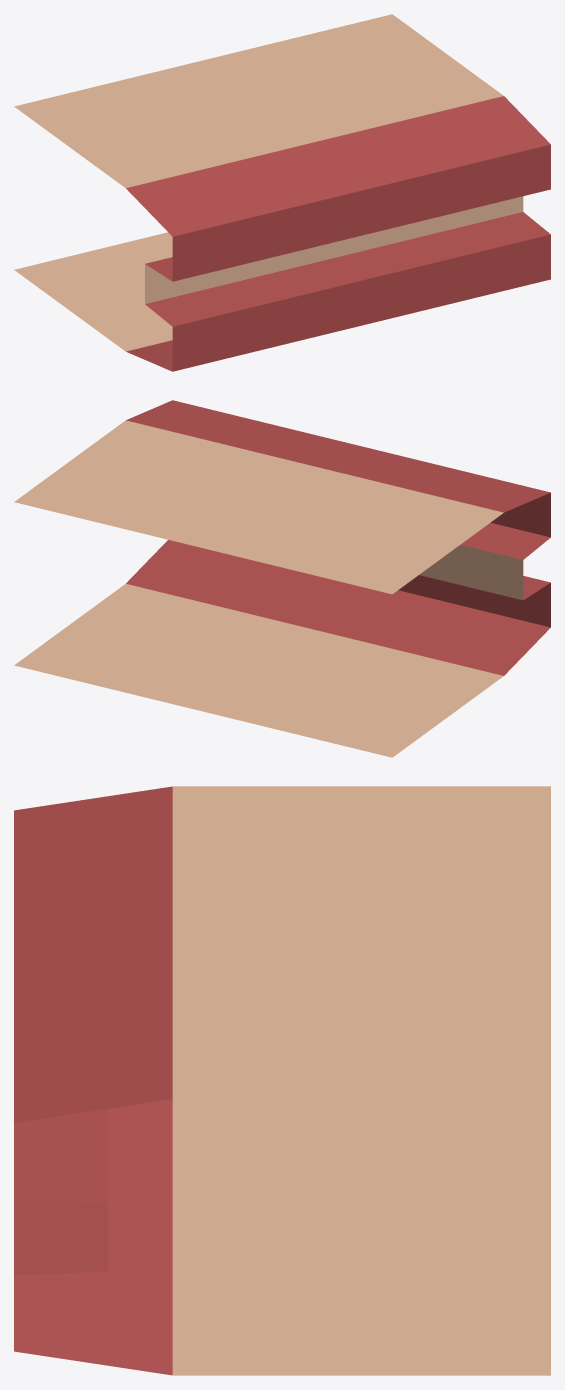
The model's file is SquarePlatformMiddleEnd.fbx.
3 views of the same model, one above another, from view 1: azimuth 30°, elevation 25°; view 2: azimuth 150°, elevation 25°; view 3: azimuth 270°, elevation 25° (orthographic). The views are drawn at different scales.
Parts seen in each view (by area): view 1: Cube; view 2: Cube; view 3: Cube.
Boxes of the visible parts, x1,y1,x2,y2 form: Cube: (14,14,550,371); Cube: (14,400,550,757); Cube: (14,786,550,1375).
Size of the model in its own units: 242 by 100 by 176.
